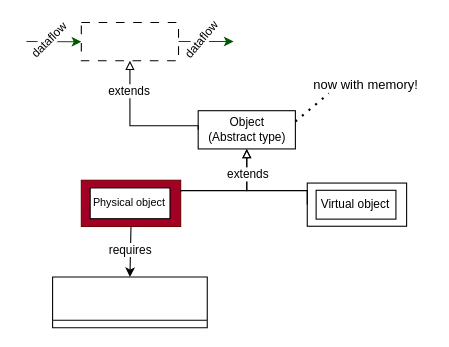
Some shapes in this 449 by 347 pixel diagram are drawn without their labels. Here are the shapes that lost their labels. From the top down, the centre of each, then its label:
At pixel 129 41: "Function".
At pixel 129 302: "JSON Description File".
